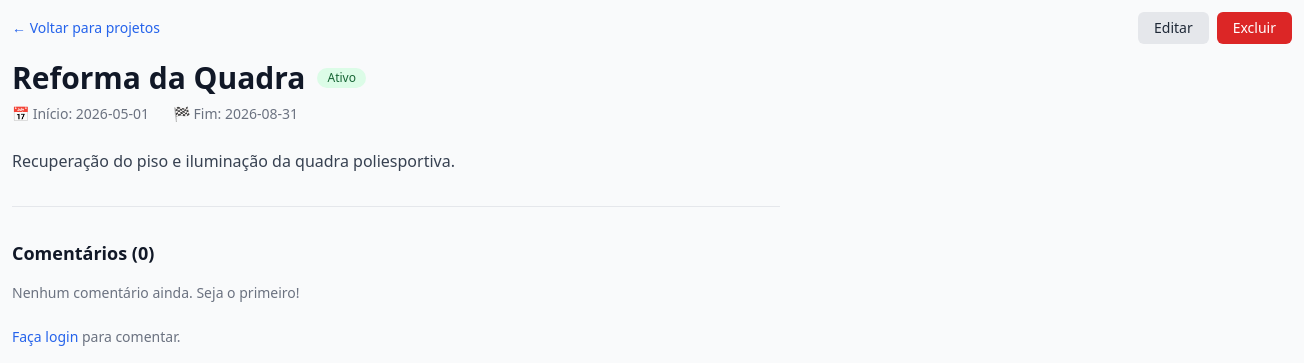
Test: ProjectDetailPage — admin › solicita confirmação antes de excluir
The image size is (1304, 363).
Click the button "Excluir".
click(1254, 28)  # box [1217, 12, 1292, 44]
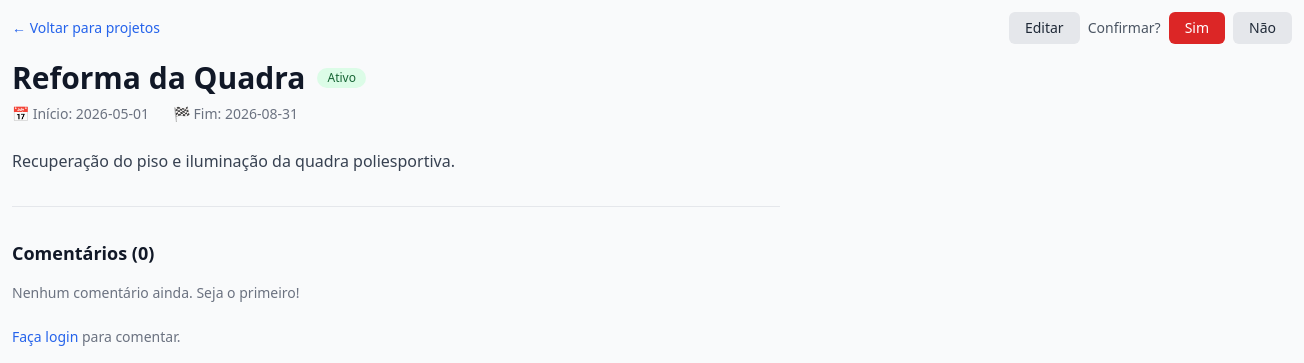
Check: the text "Confirmar?" is shown, box [1088, 18, 1161, 38]
Check: the button "Sim" is shown, box [1169, 12, 1225, 44]
